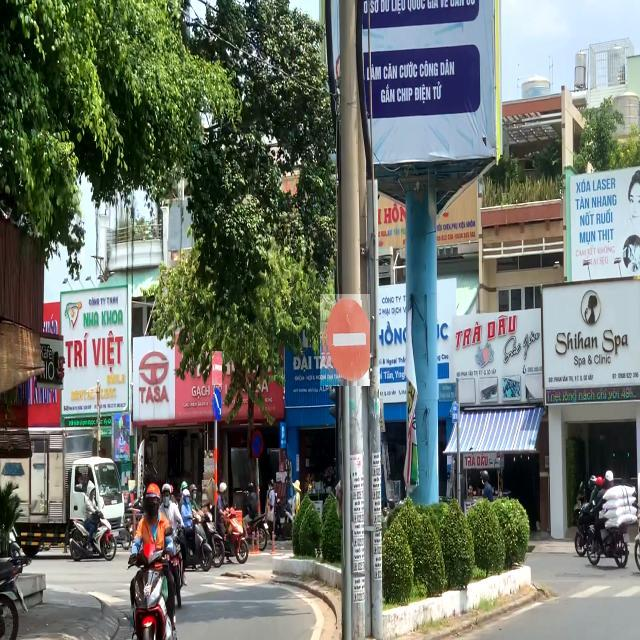P-102: (321, 294, 371, 386), (212, 352, 222, 386)
P-131a: (250, 429, 264, 458)
R-302a: (212, 387, 221, 420)
